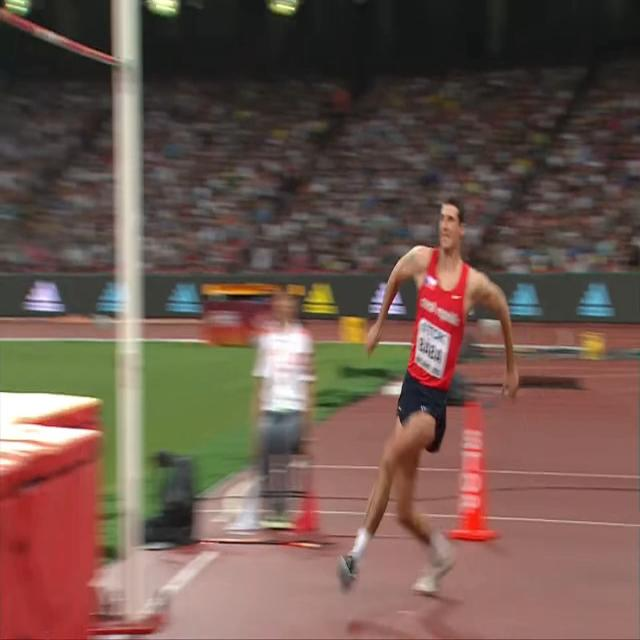run: (337, 196, 521, 602)
